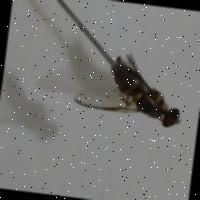Oriental-fruit-fly: (62, 35, 192, 141)
